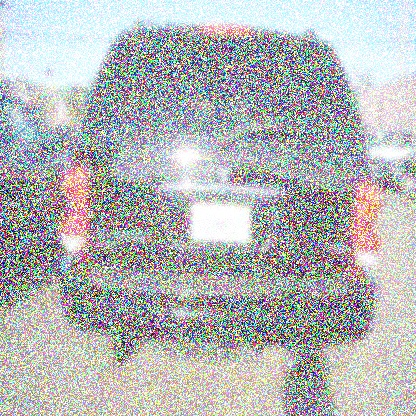Vehicle: (60, 23, 381, 384)
